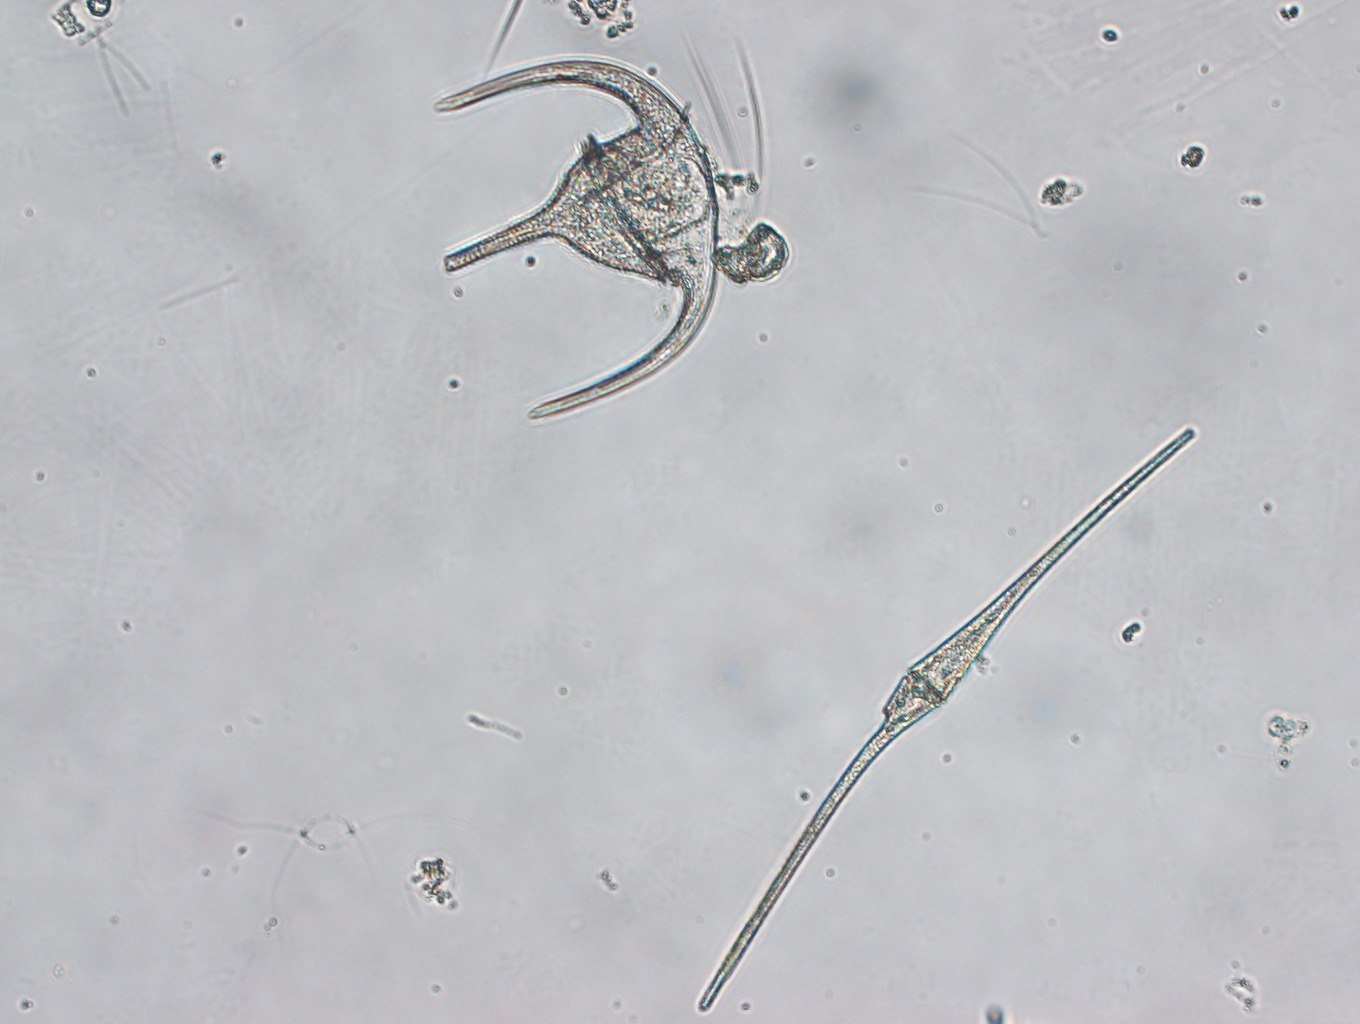ceratium fusus: (697, 423, 1199, 1016)
ceratium tripos: (429, 59, 719, 423)
chaetoceros: (47, 1, 152, 117)
